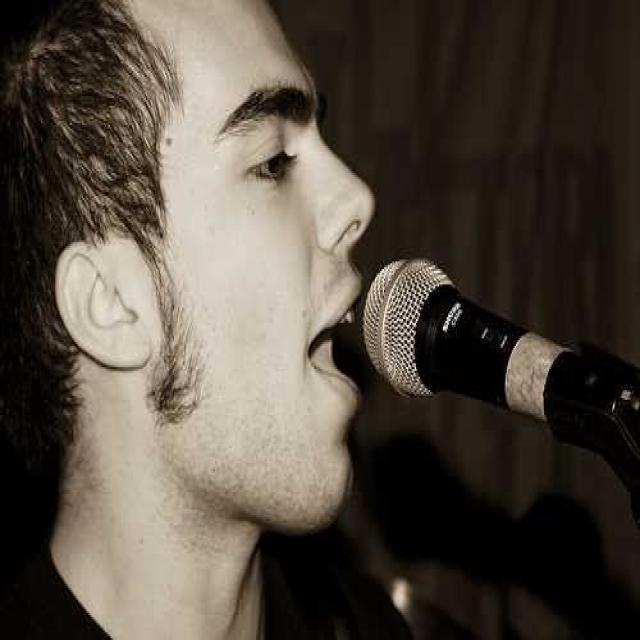microphone: (358, 250, 619, 453)
